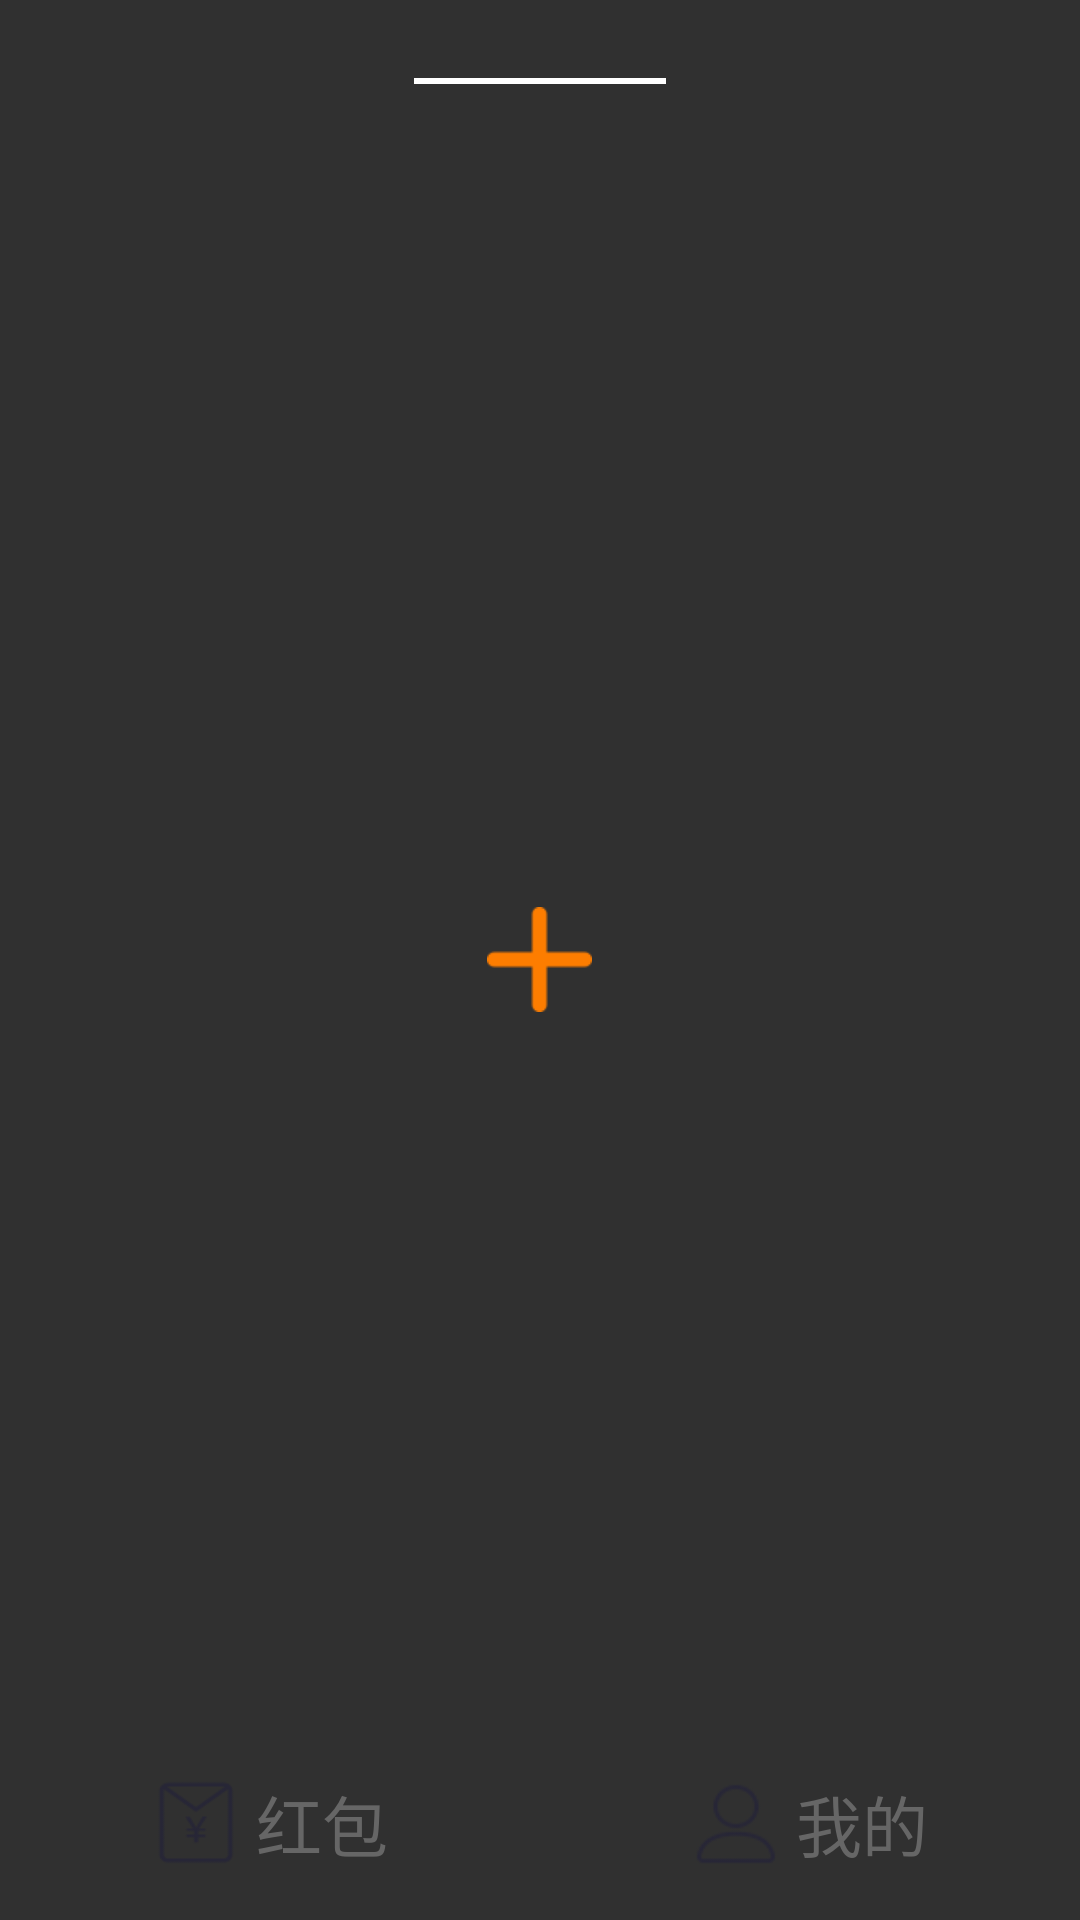

Where to tap for icons on this 1080x1920 app screen, as (x=x, y=y):
add: (x=539, y=959)
